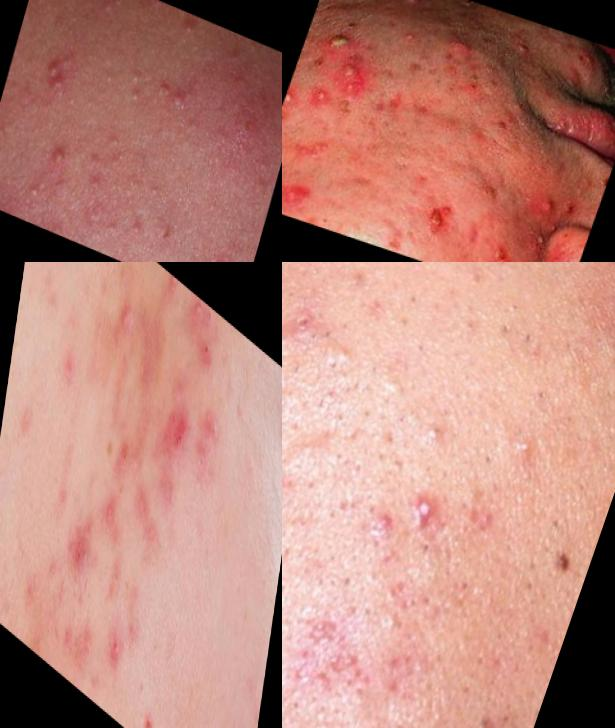blackhead: (407, 399, 480, 461), (593, 273, 615, 329)
papular: (141, 62, 202, 130), (405, 477, 462, 542), (68, 488, 103, 585), (157, 385, 195, 469), (33, 44, 82, 103), (414, 188, 465, 243), (283, 149, 321, 213), (99, 602, 127, 679), (521, 180, 564, 227), (444, 21, 487, 65), (113, 281, 139, 338), (508, 28, 542, 67), (112, 417, 133, 479), (103, 487, 121, 540)
purulent: (40, 134, 78, 181), (320, 19, 357, 62), (182, 289, 206, 344), (307, 80, 332, 113), (388, 1, 433, 19), (397, 24, 424, 51)
sebo-crystan-conglo: (333, 49, 370, 106)
whitehead: (354, 596, 416, 652), (360, 356, 415, 418), (486, 427, 538, 483), (114, 202, 155, 247), (120, 58, 151, 108)
